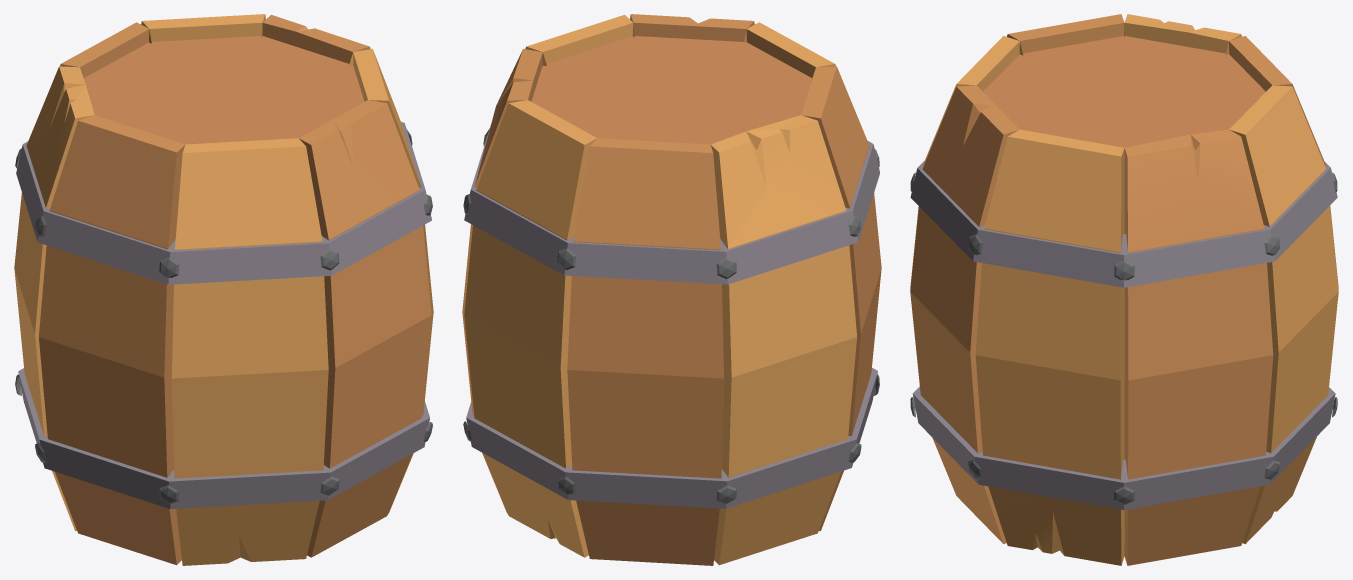
Rendered from barrel.fbx.
3 renders of one model, left to right at view 1: azimuth 30°, elevation 25°; view 2: azimuth 150°, elevation 25°; view 3: azimuth 270°, elevation 25°, orthographic.
Visible parts, largest first — view 1: pSphere32; view 2: pSphere32; view 3: pSphere32.
Boxes of the visible parts, x1=… form: pSphere32: x1=14, y1=14, x2=433, y2=565; pSphere32: x1=462, y1=14, x2=881, y2=565; pSphere32: x1=910, y1=14, x2=1338, y2=565.
Bounding box in the file's own units: 1.11 × 1.18 × 1.11.
